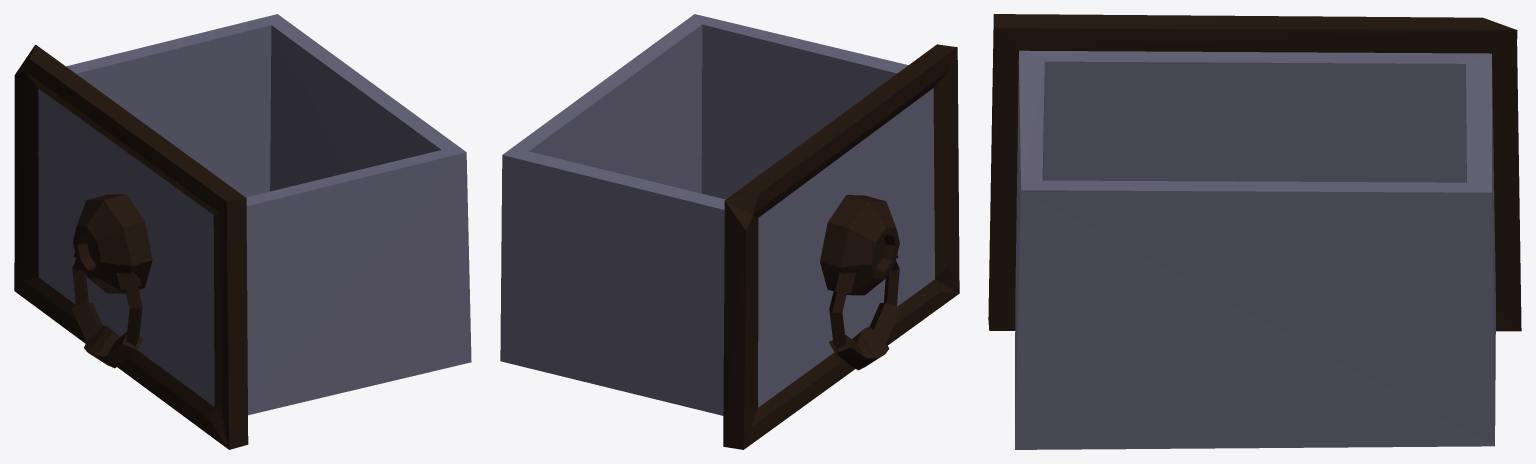
File: SFFA_Table_Modular_Cabinet.fbx
The picture shows the model from 3 angles, left to right: view 1: azimuth 30°, elevation 25°; view 2: azimuth 150°, elevation 25°; view 3: azimuth 270°, elevation 25°; orthographic projection. The views are drawn at different scales.
Visible parts, largest first — view 1: SFFA_Table_Modular_Cabinet; view 2: SFFA_Table_Modular_Cabinet; view 3: SFFA_Table_Modular_Cabinet.
Part boxes in pixels (x1,y1,x2,y2): SFFA_Table_Modular_Cabinet: (14,14,471,449); SFFA_Table_Modular_Cabinet: (500,14,959,449); SFFA_Table_Modular_Cabinet: (988,14,1521,449).
Bounding box in the file's own units: 47.33 × 38.79 × 61.35.
